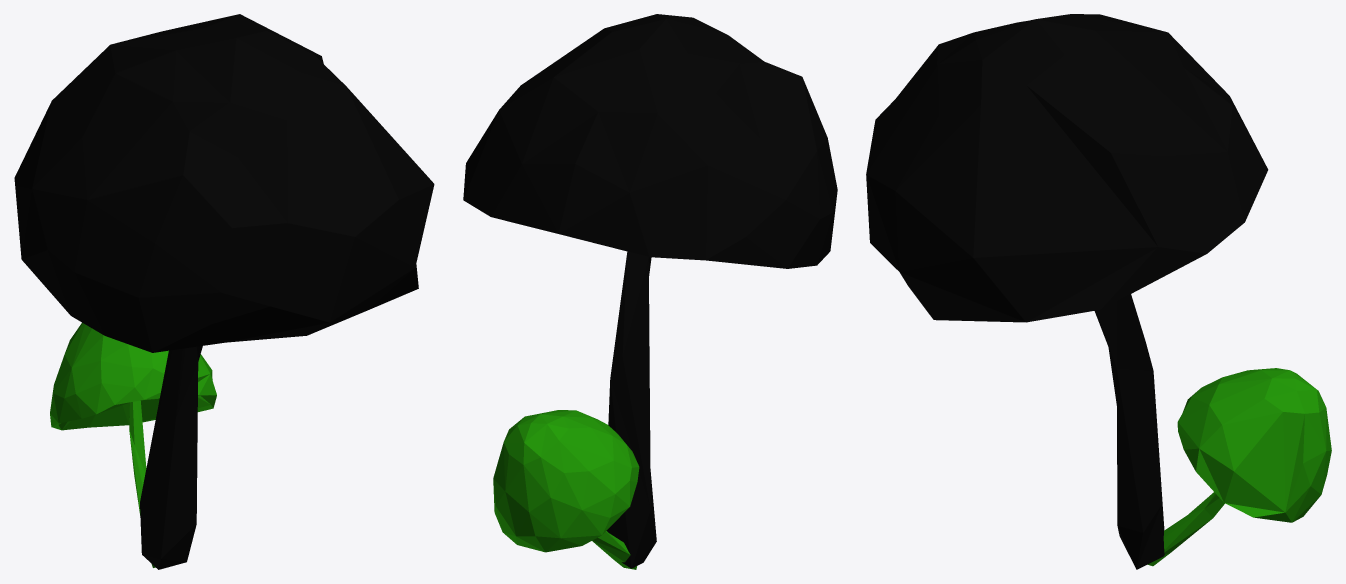
Rendered from Mushroom06_HT.fbx.
3 views of the same model, side by side, from view 1: azimuth 30°, elevation 25°; view 2: azimuth 150°, elevation 25°; view 3: azimuth 270°, elevation 25° (orthographic). The views are drawn at different scales.
Visible parts, largest first — view 1: Mushroom06_HT; view 2: Mushroom06_HT; view 3: Mushroom06_HT.
Part boxes in pixels (bbox=[...]): Mushroom06_HT: bbox=[14, 14, 434, 569]; Mushroom06_HT: bbox=[463, 14, 837, 569]; Mushroom06_HT: bbox=[866, 14, 1331, 569].
Bounding box in the file's own units: 18.86 × 28.1 × 21.41.
